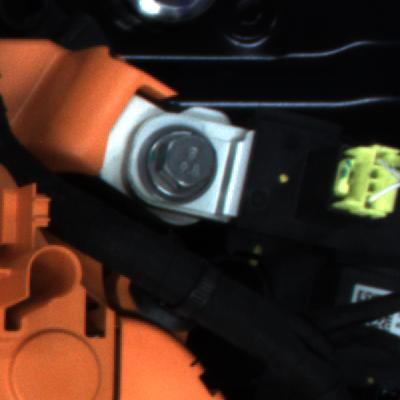nut_b: (137, 117, 220, 202)
